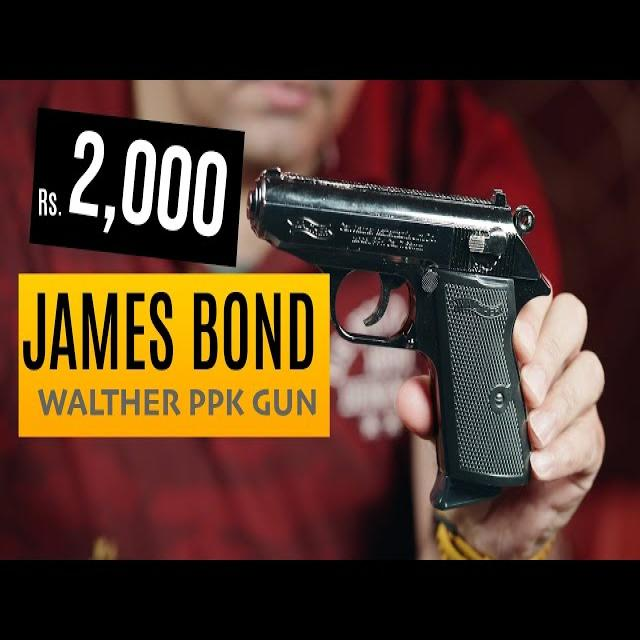HandGun: (247, 168, 552, 509)
